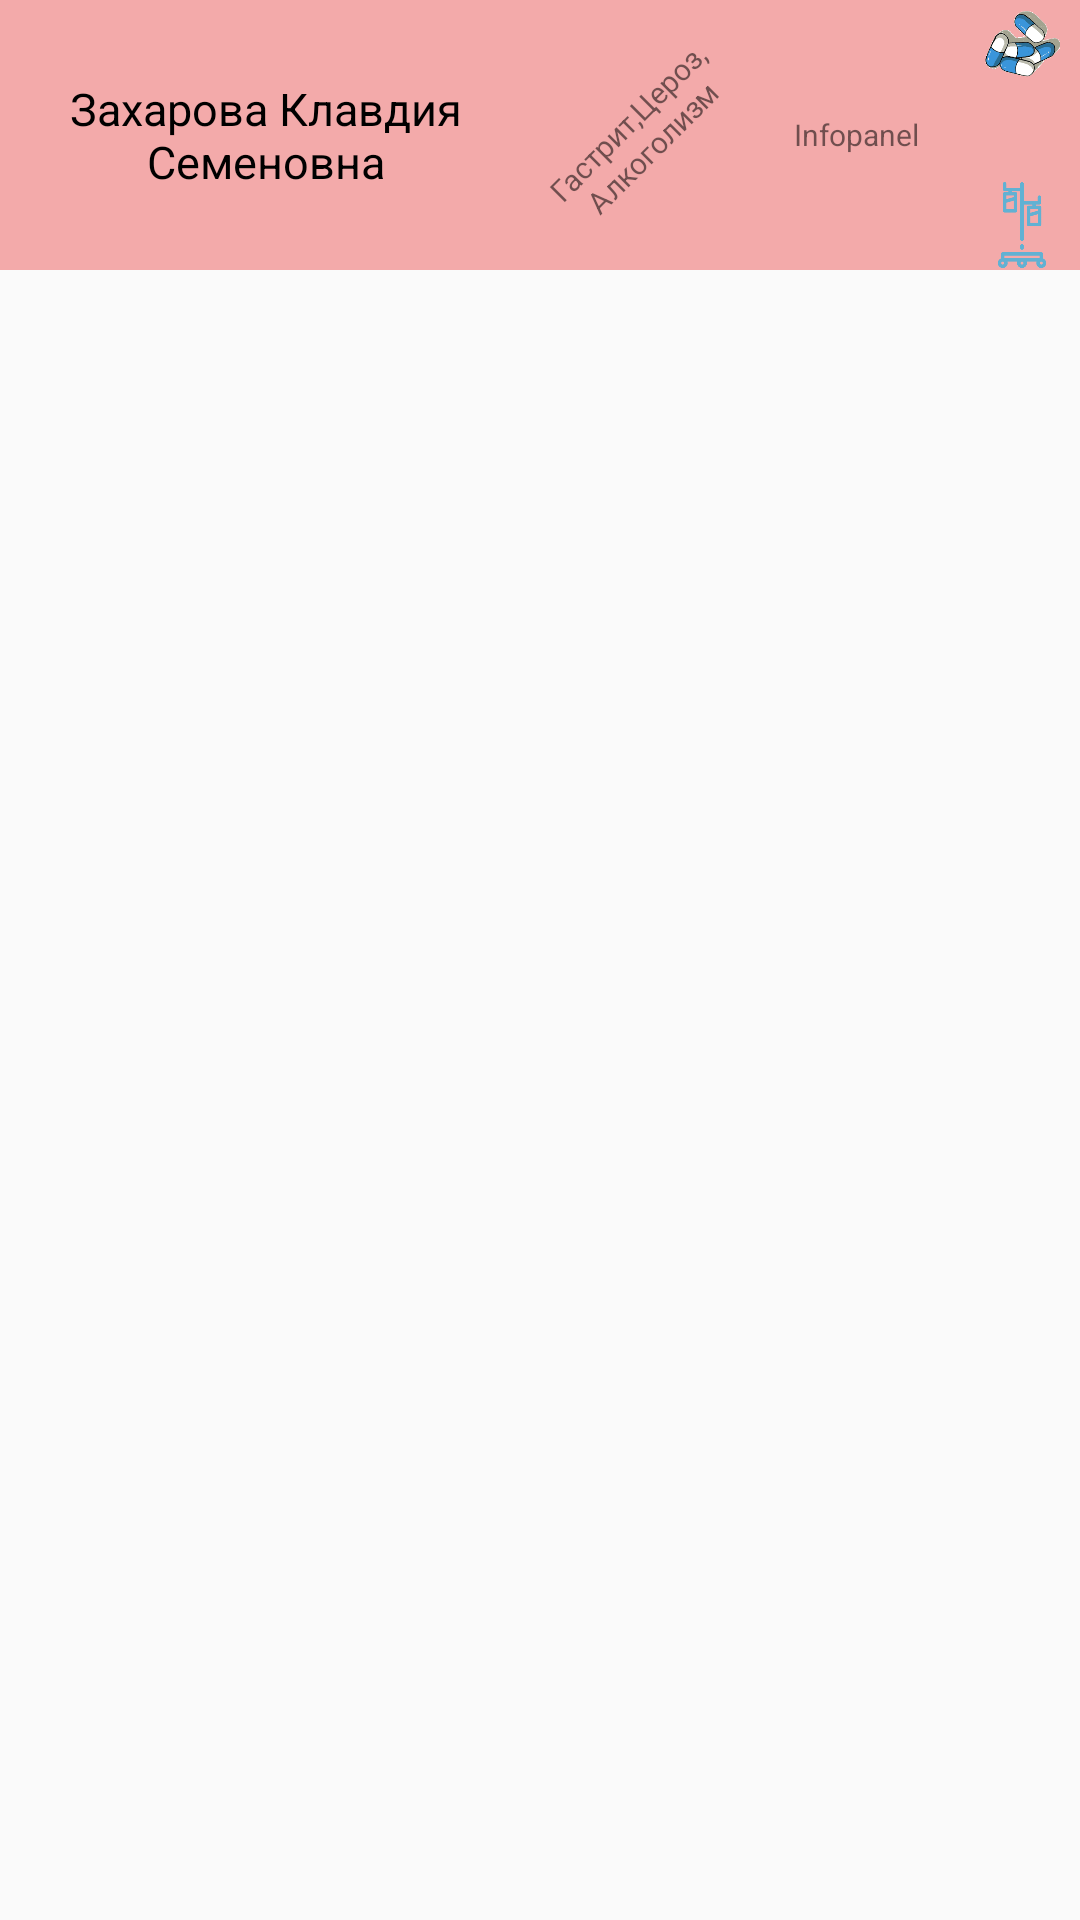

Icons on this 1080w x 1920h Android screen, each with its box as (x1, y1, x2, y2):
kapel: (998, 182, 1046, 268)
tablets: (985, 11, 1060, 77)
